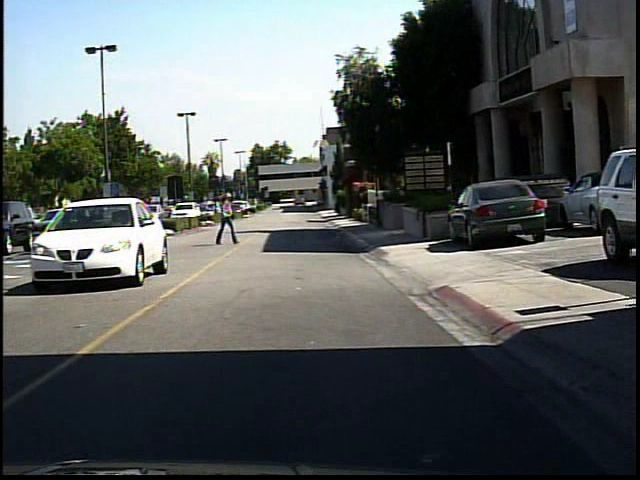person: (210, 188, 239, 248)
